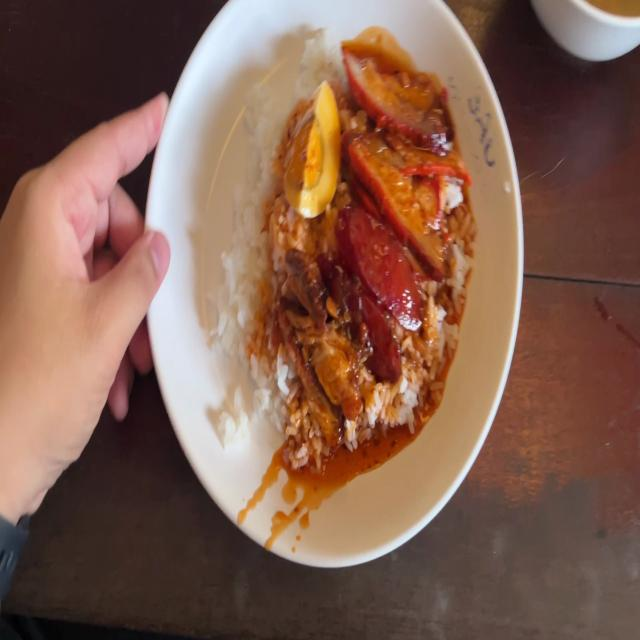01boiled_egg: (285, 86, 338, 218)
01chainese_sausage: (336, 216, 409, 362)
01crispy_pork: (285, 256, 349, 439)
01red_pork: (345, 54, 466, 253)
01red_pork_and_crispy_pork: (222, 51, 464, 460)
01rice: (226, 90, 282, 397)
